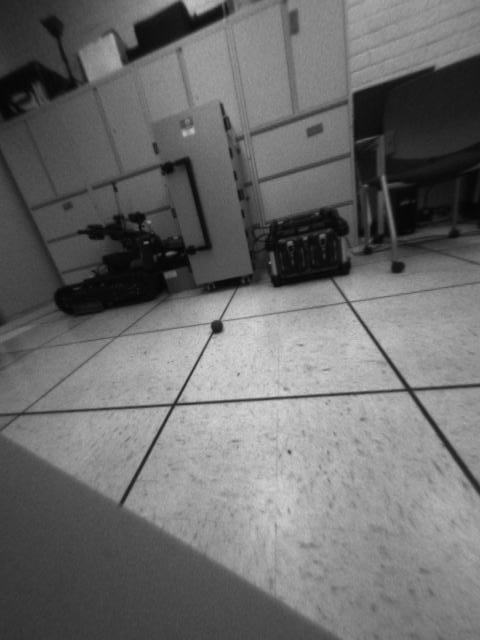dogtoy: (200, 311, 232, 338)
